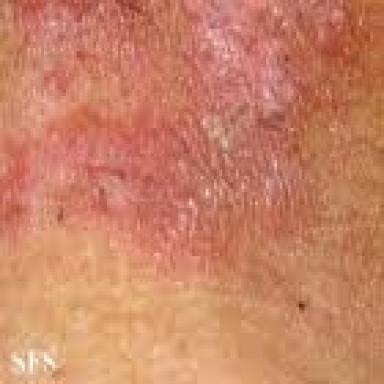Hailey-Hailey-Disease: (0, 2, 384, 255)
